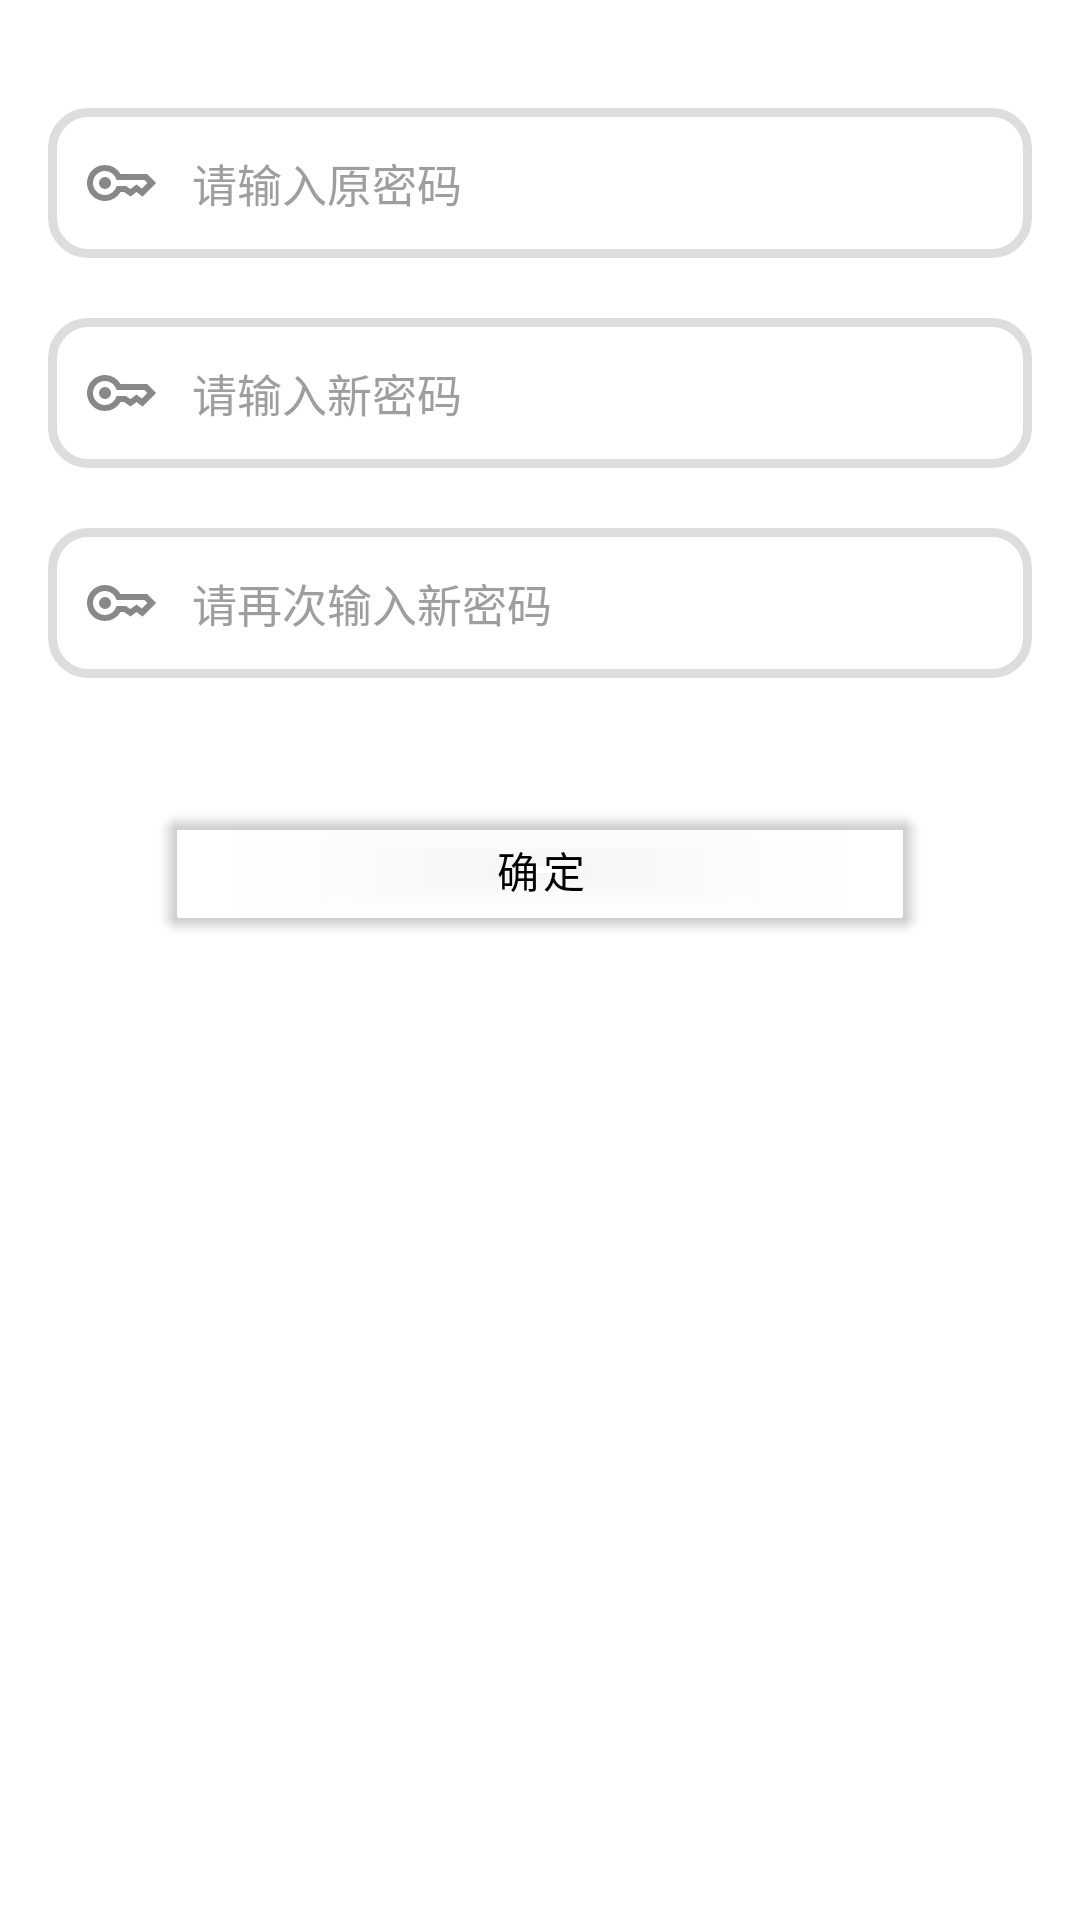

Point at icon controls on the screen. Image size 1080x1920, points as (x=x, y=y).
password: (x=121, y=183), (x=121, y=393), (x=121, y=603)
